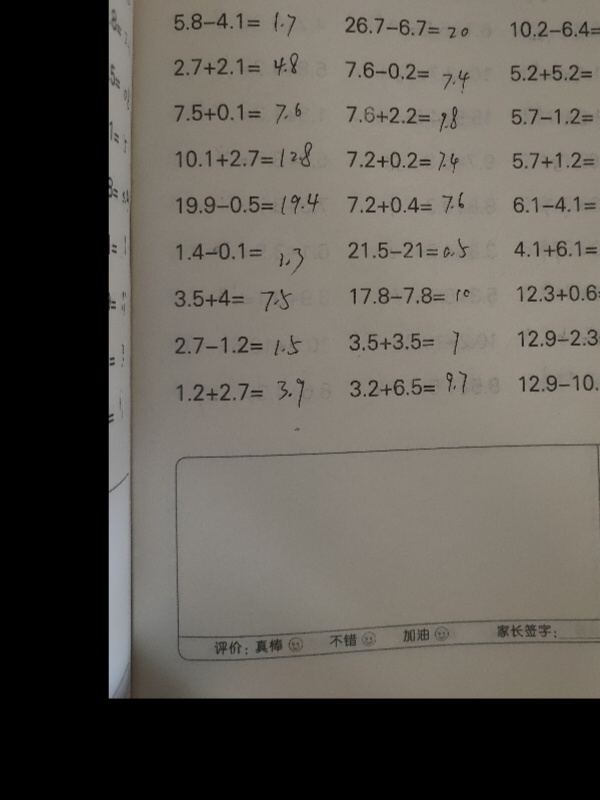equation: (168, 371, 312, 419), (172, 235, 314, 278), (168, 3, 305, 46), (169, 287, 313, 326), (340, 55, 476, 95), (338, 368, 488, 404), (342, 187, 485, 223), (173, 139, 317, 172), (168, 331, 314, 363), (341, 326, 466, 363), (342, 148, 472, 182), (164, 52, 309, 82), (345, 102, 465, 138), (173, 191, 322, 219), (506, 143, 600, 187), (171, 100, 305, 128), (345, 235, 473, 263), (341, 15, 472, 40), (347, 284, 474, 309), (508, 104, 600, 138), (516, 324, 600, 358), (517, 371, 600, 403), (507, 14, 600, 42), (508, 58, 600, 86), (513, 277, 600, 305), (510, 237, 600, 262), (510, 194, 600, 218)
